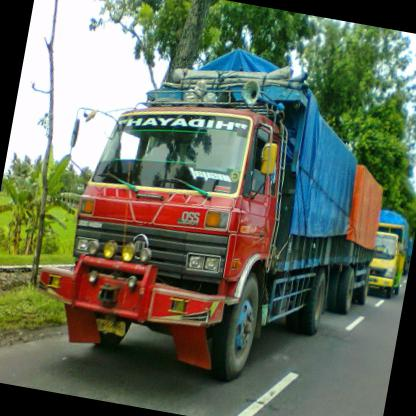truck: (51, 74, 296, 382)
